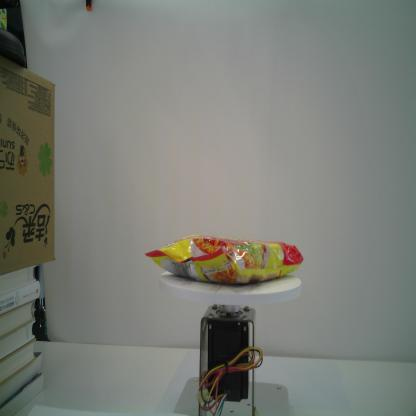Instant Noodles: (145, 233, 304, 287)
